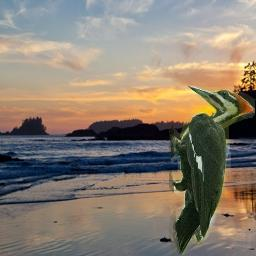Woodpecker: (169, 86, 255, 255)
